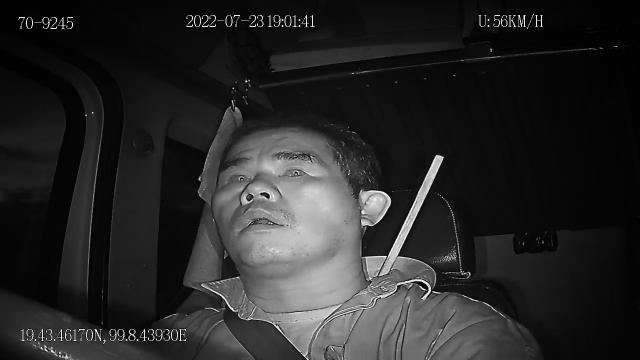SafeDriving: (274, 158, 314, 184), (220, 162, 254, 190)
Seatbelt: (222, 302, 310, 360)
